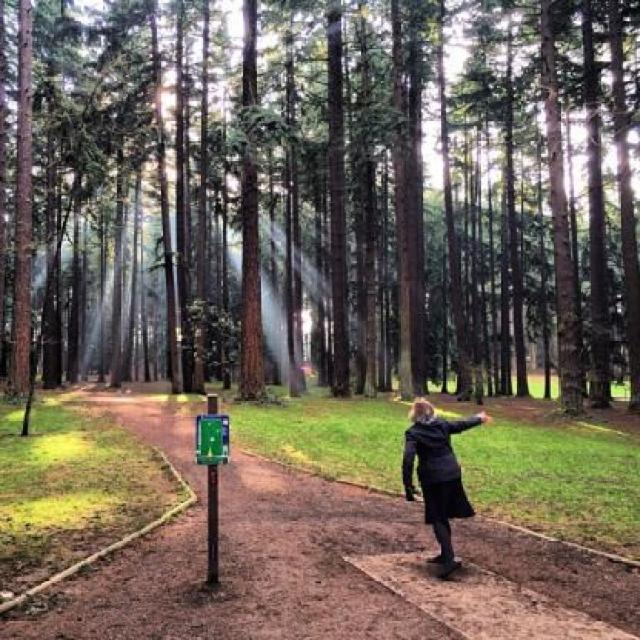Person: (393, 391, 496, 578)
